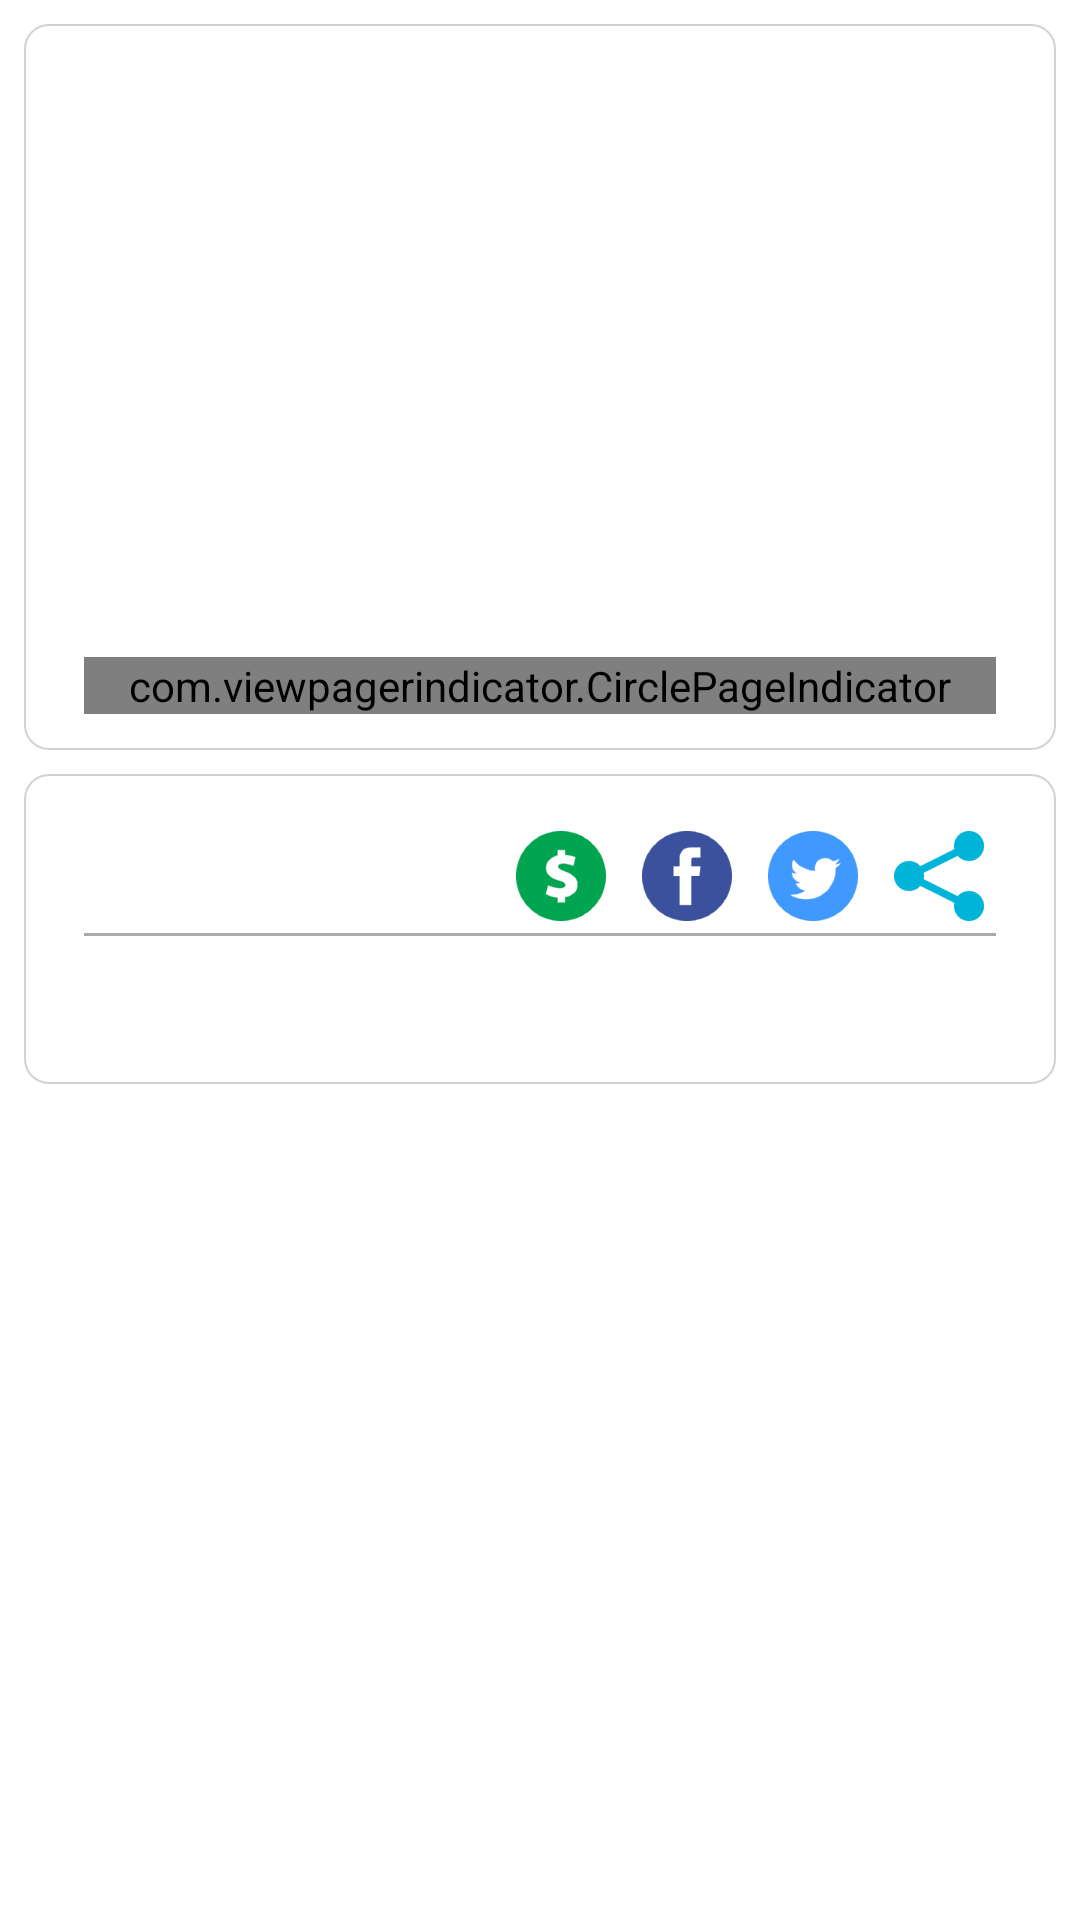

Where icons sit on this 1080×1920 app screen, as (x1, y1, x2, y2):
fund: (516, 831, 606, 921)
share: (894, 831, 984, 921)
